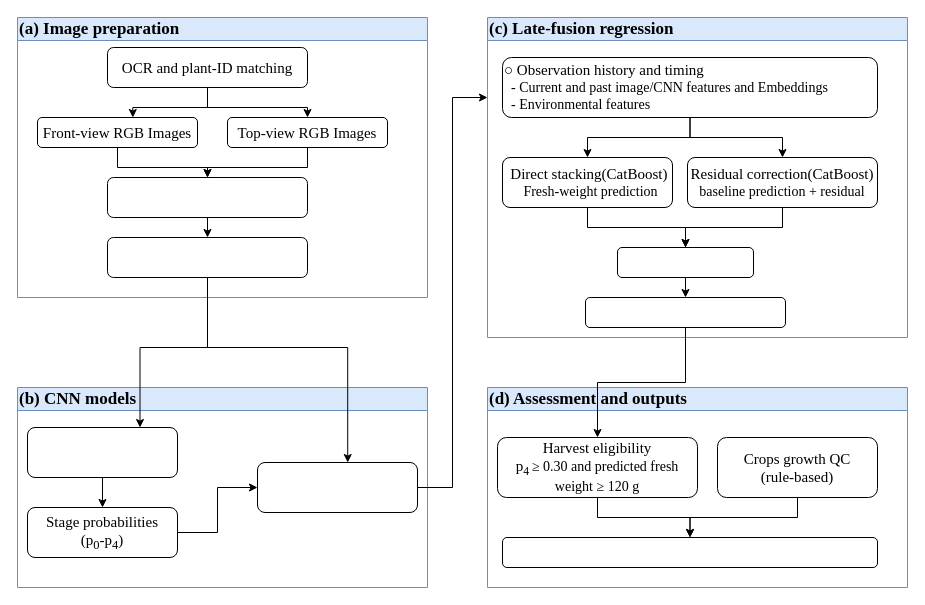
The diagram is 925 pixels wide and 605 high, and some of its shapes have lost their labels. The centre of each missing label's shape, as x and y in pixels:
50:50 blend: pixel 685 262
Growth-state assessment and Decision support: pixel 690 552
Heading-stage classification: pixel 102 452
Image-based fresh-weight prediction: pixel 337 487
Matched front and top-view crops: pixel 207 257
Predicted fresh weight (g): pixel 685 312
Slot assignment and Segmentation: pixel 207 197
